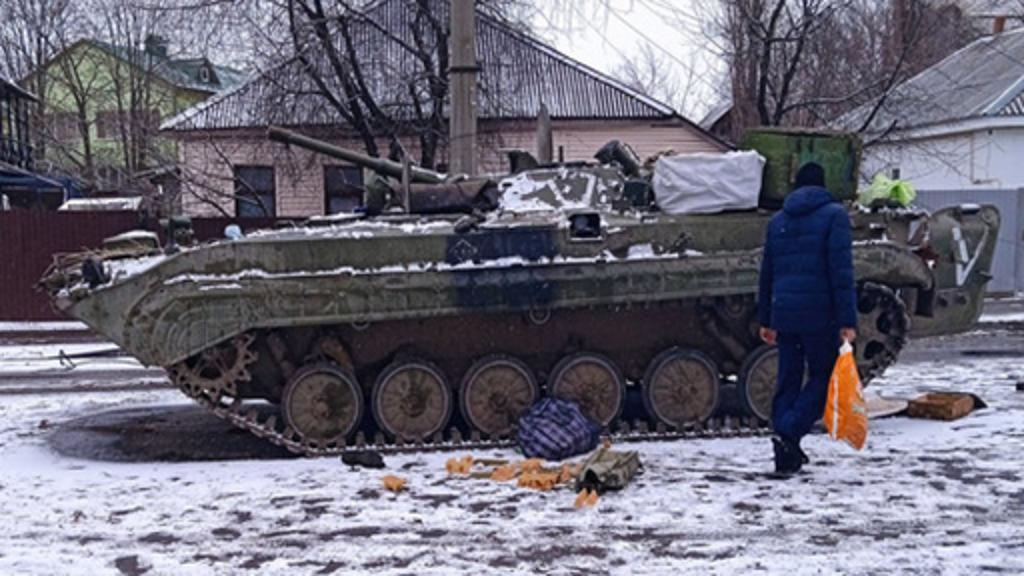APC-IFV: (34, 120, 952, 454)
